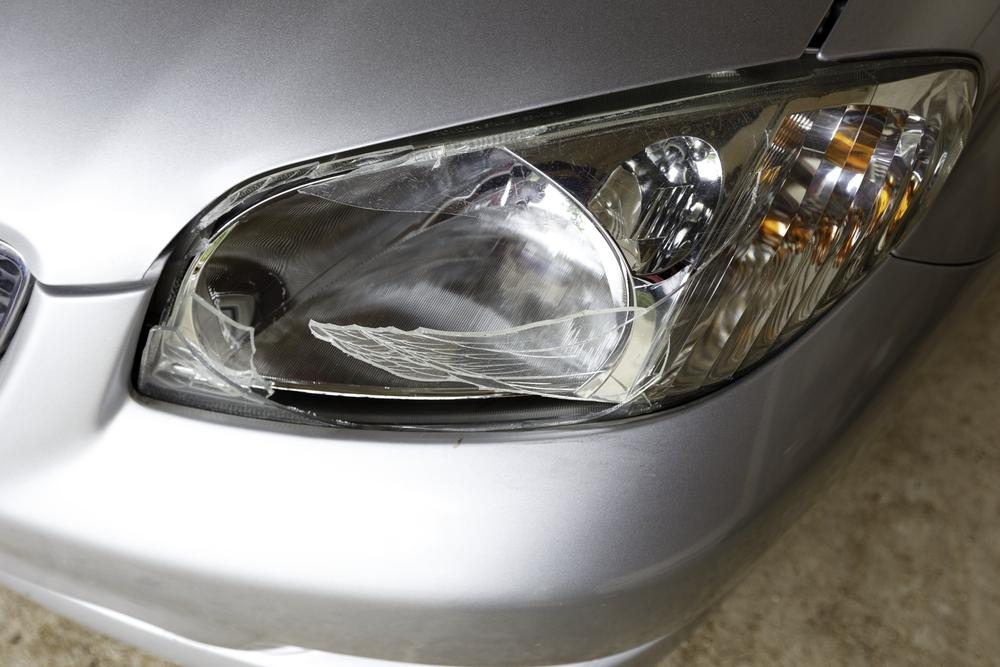lamp broken: (136, 62, 978, 435)
